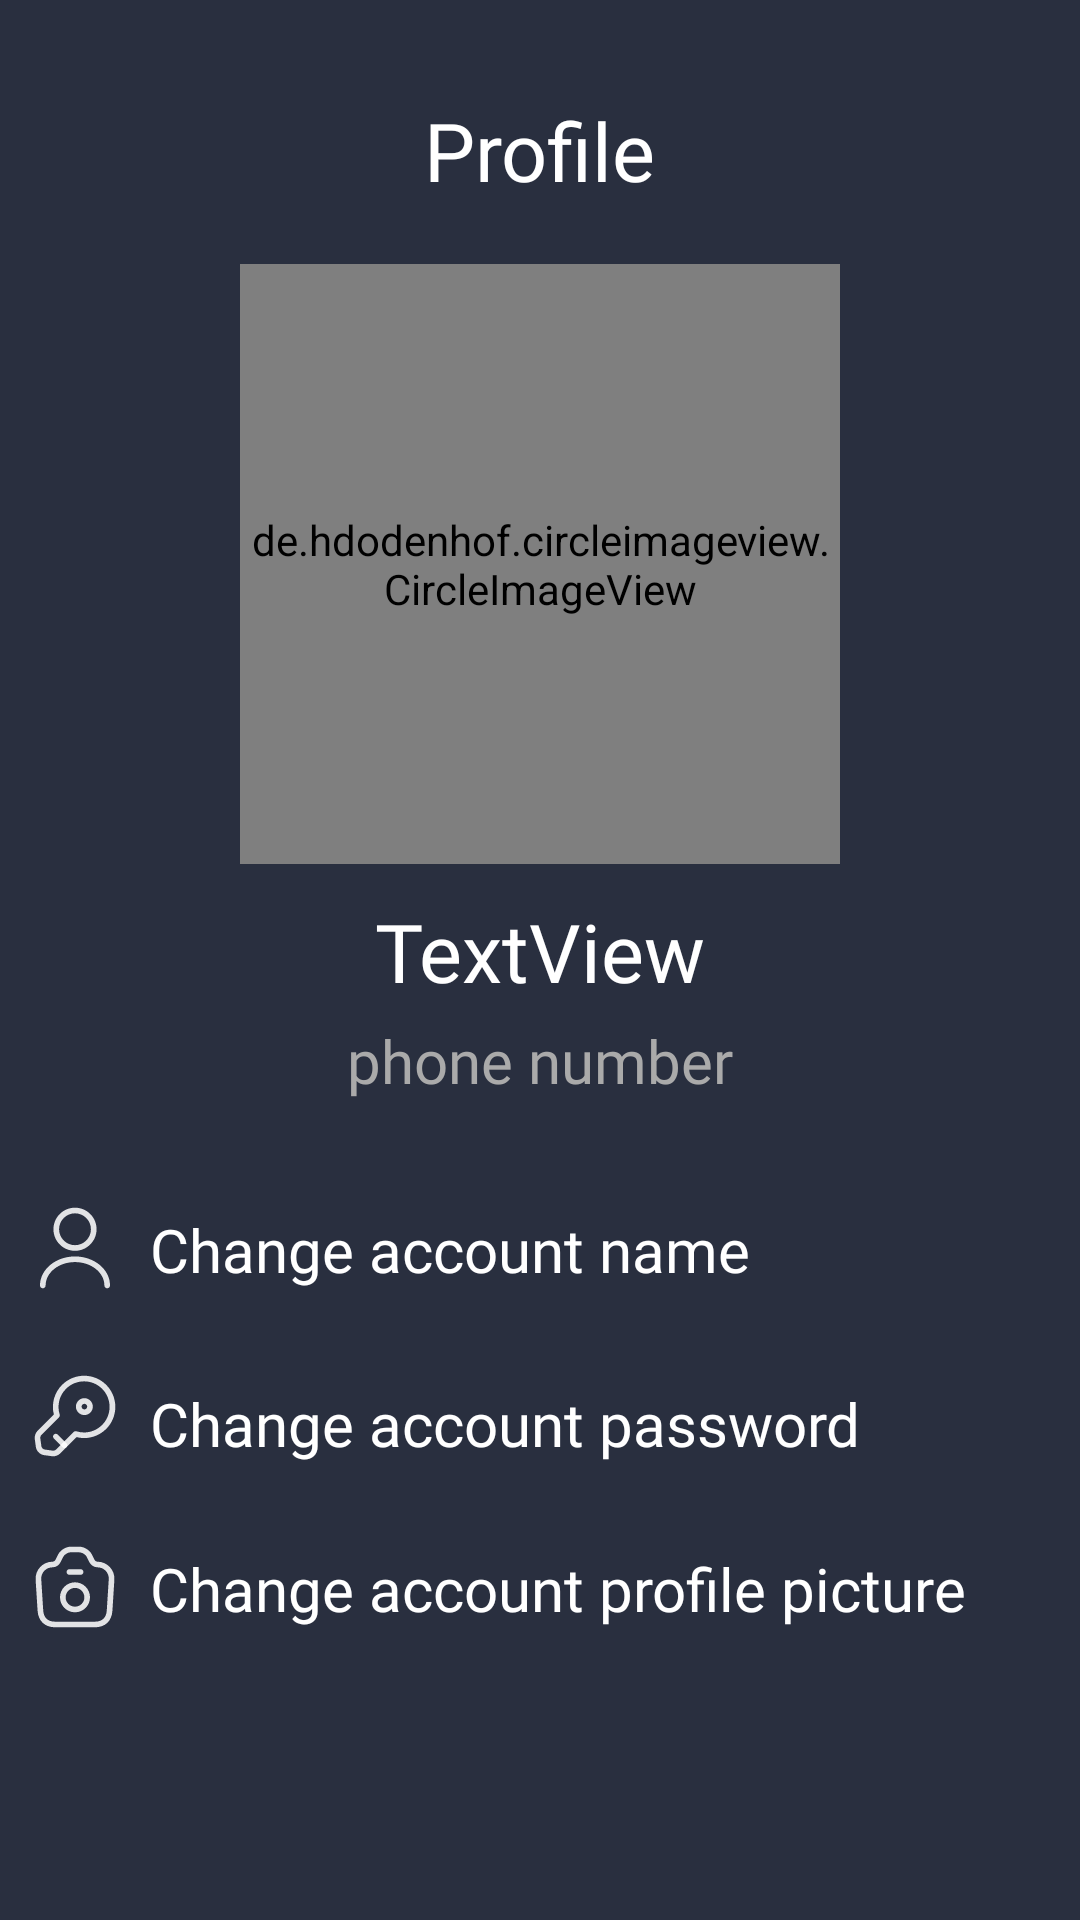

Icons on this 1080x1920 Android screen, each with the point to tap as point (x, y):
user change account: point (75, 1248)
user change password: point (75, 1416)
